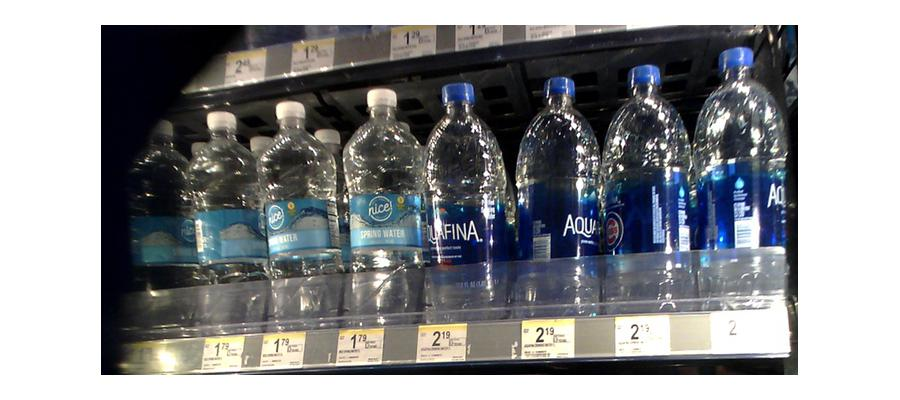bottle: (694, 43, 786, 318), (513, 76, 604, 314), (603, 62, 690, 310), (422, 85, 507, 322), (343, 80, 422, 324), (258, 99, 338, 327), (190, 102, 259, 330), (126, 111, 188, 340)
